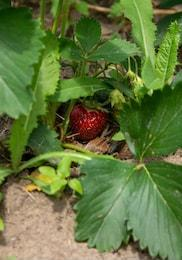Fresa: (62, 93, 113, 145)
